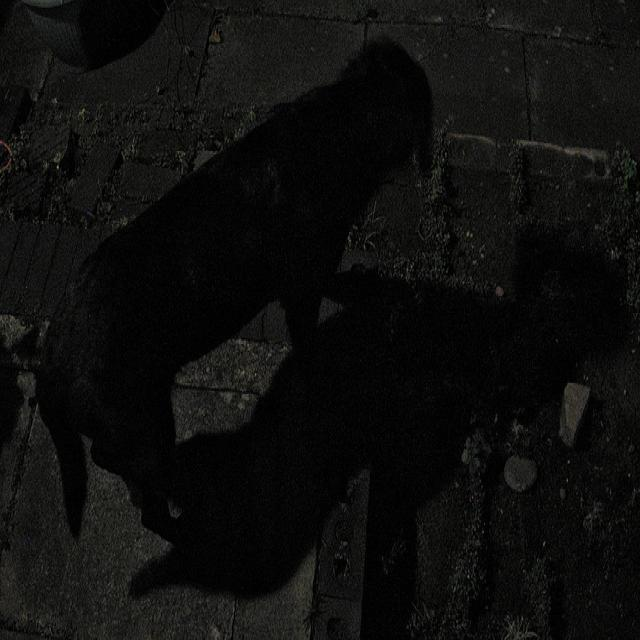dog: (16, 49, 450, 543)
